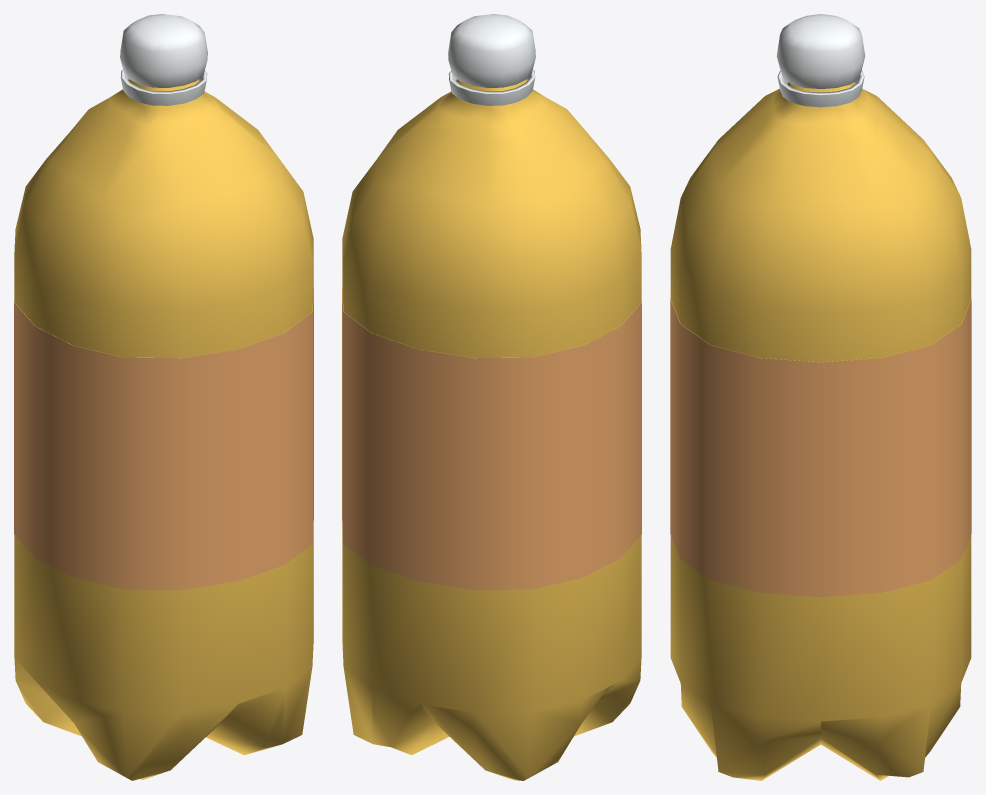
The model's file is orange_soda.glb.
3 views of the same model, side by side, from view 1: azimuth 30°, elevation 25°; view 2: azimuth 150°, elevation 25°; view 3: azimuth 270°, elevation 25° (orthographic).
Visible parts, largest first — view 1: pCube6; view 2: pCube6; view 3: pCube6.
Boxes of the visible parts, x1,y1,x2,y2 form: pCube6: (14,14,313,780); pCube6: (342,14,641,780); pCube6: (670,14,971,780).
Bounding box in the file's own units: 0.0088 × 0.0237 × 0.0088.
